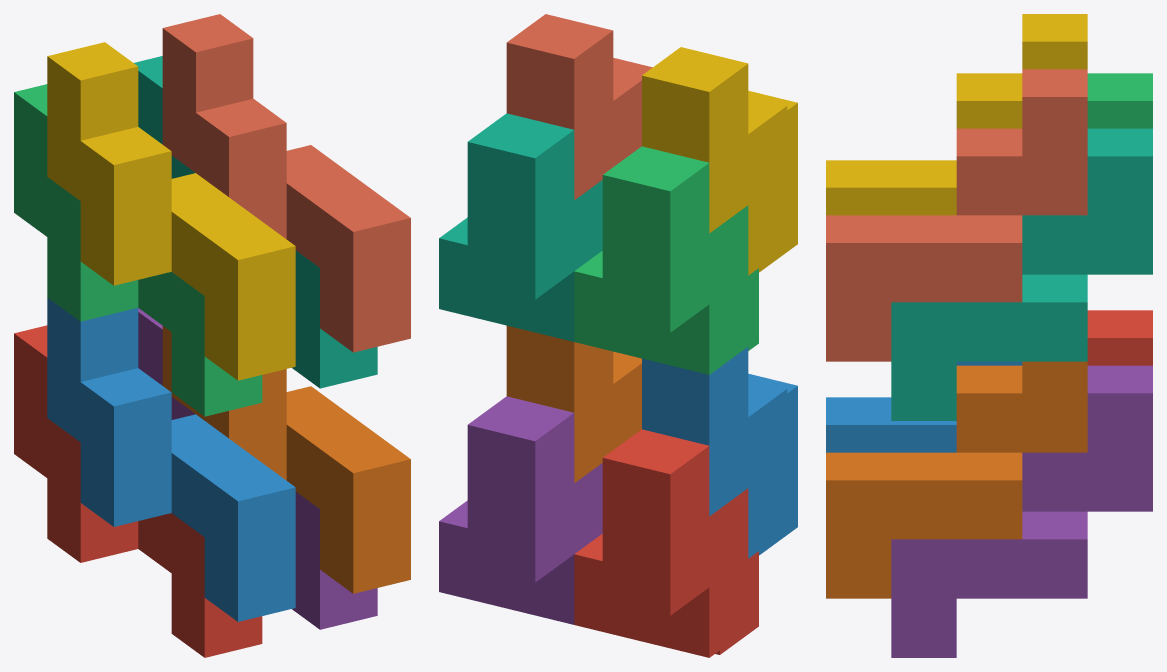
Rendered from tiling.obj.
The picture shows the model from 3 angles, left to right: view 1: azimuth 30°, elevation 25°; view 2: azimuth 150°, elevation 25°; view 3: azimuth 270°, elevation 25°; orthographic projection. The views are drawn at different scales.
Visible parts, largest first — view 1: copy_1_domain_4, copy_1_domain_2, copy_1_domain_8, copy_1_domain_6, copy_1_domain_1, copy_1_domain_3, copy_1_domain_7, copy_1_domain_5; view 2: copy_1_domain_1, copy_1_domain_3, copy_1_domain_7, copy_1_domain_5, copy_1_domain_4, copy_1_domain_2, copy_1_domain_8, copy_1_domain_6; view 3: copy_1_domain_8, copy_1_domain_6, copy_1_domain_5, copy_1_domain_7, copy_1_domain_4, copy_1_domain_2, copy_1_domain_1, copy_1_domain_3.
Boxes of the visible parts, bbox=[...] form: copy_1_domain_4: bbox=[47, 42, 295, 380]; copy_1_domain_2: bbox=[47, 297, 295, 621]; copy_1_domain_8: bbox=[162, 14, 410, 352]; copy_1_domain_6: bbox=[162, 326, 410, 593]; copy_1_domain_1: bbox=[14, 325, 262, 657]; copy_1_domain_3: bbox=[14, 84, 262, 416]; copy_1_domain_7: bbox=[134, 56, 377, 388]; copy_1_domain_5: bbox=[138, 308, 377, 629]; copy_1_domain_1: bbox=[574, 429, 758, 657]; copy_1_domain_3: bbox=[574, 146, 758, 374]; copy_1_domain_7: bbox=[439, 113, 602, 341]; copy_1_domain_5: bbox=[439, 396, 602, 624]; copy_1_domain_4: bbox=[642, 47, 797, 275]; copy_1_domain_2: bbox=[642, 347, 797, 558]; copy_1_domain_8: bbox=[506, 14, 652, 199]; copy_1_domain_6: bbox=[506, 325, 641, 482]; copy_1_domain_8: bbox=[826, 69, 1087, 361]; copy_1_domain_6: bbox=[826, 361, 1087, 598]; copy_1_domain_5: bbox=[891, 365, 1152, 657]; copy_1_domain_7: bbox=[891, 128, 1152, 420]; copy_1_domain_4: bbox=[826, 14, 1087, 215]; copy_1_domain_2: bbox=[826, 361, 1022, 452]; copy_1_domain_1: bbox=[1087, 310, 1152, 365]; copy_1_domain_3: bbox=[1087, 73, 1152, 128].
Size of the model in its own units: 4 by 9 by 5.
